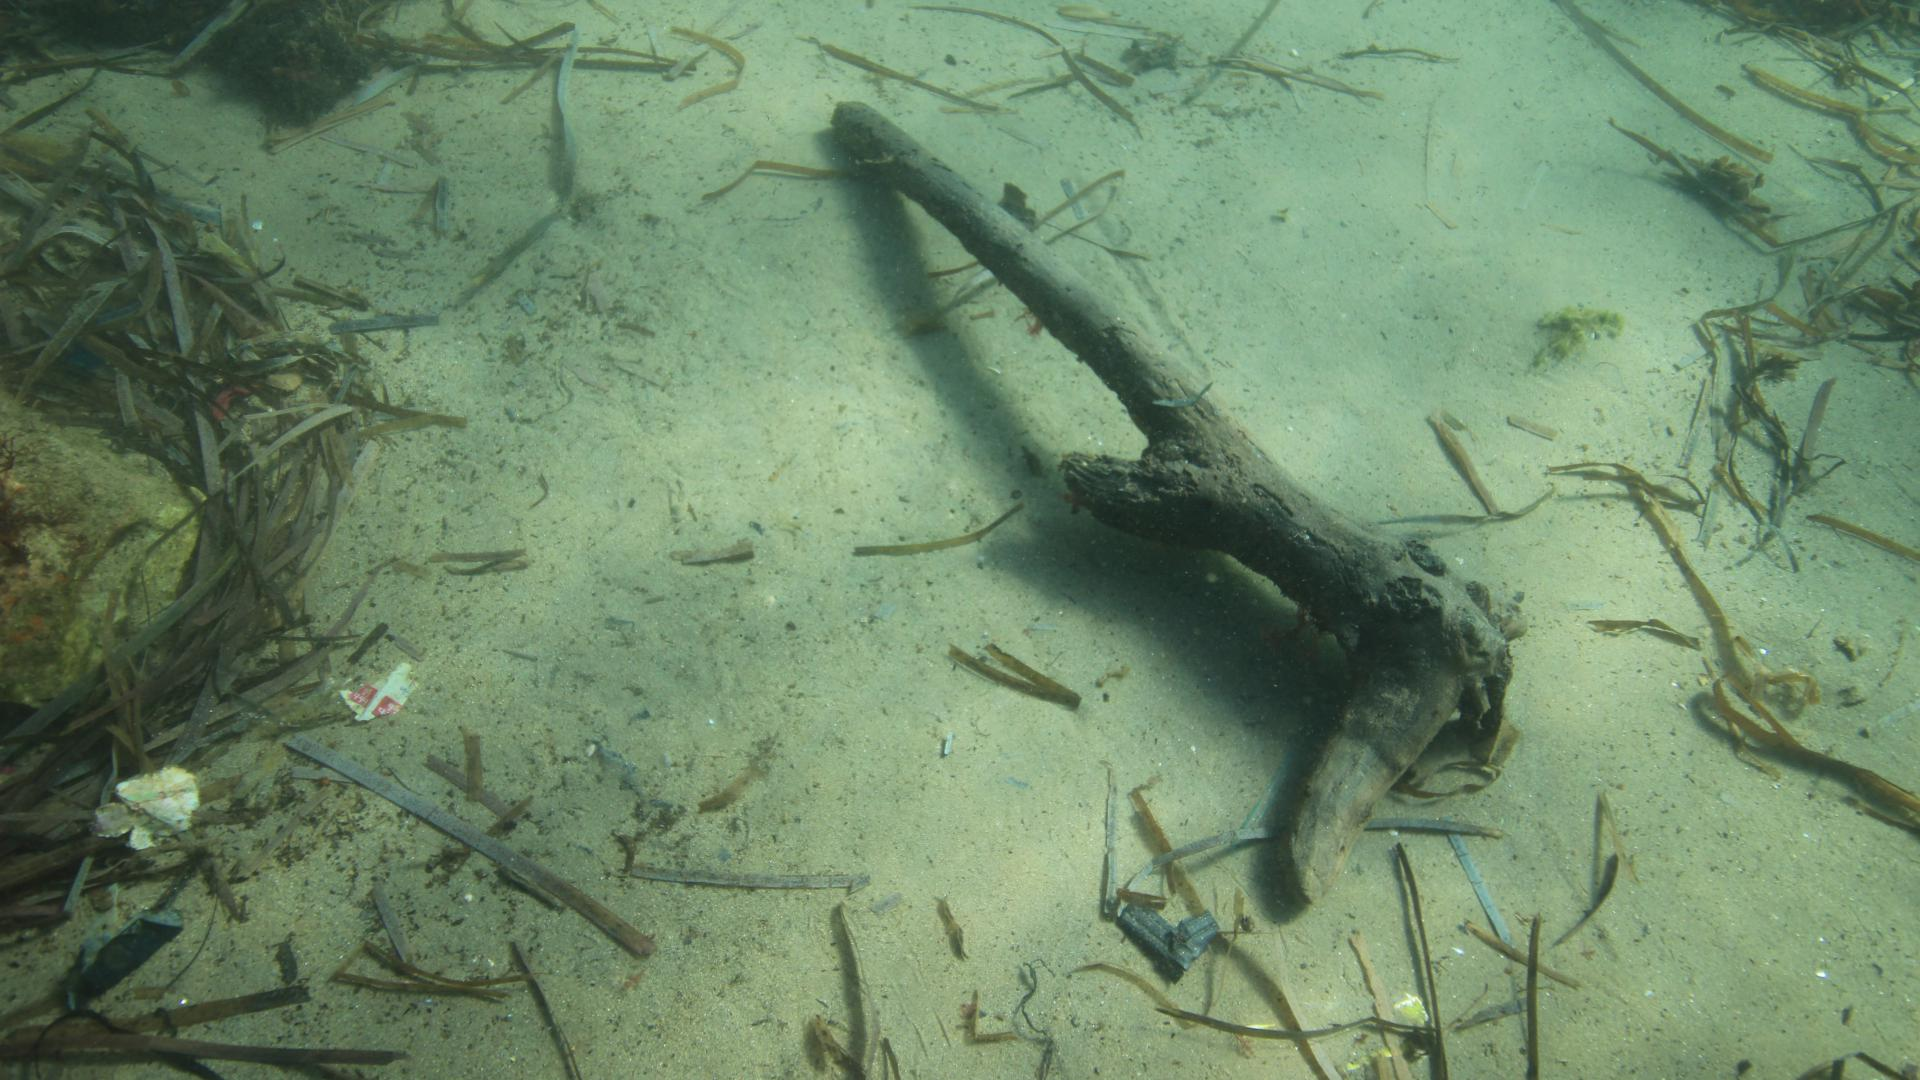wood: (833, 103, 1511, 901)
